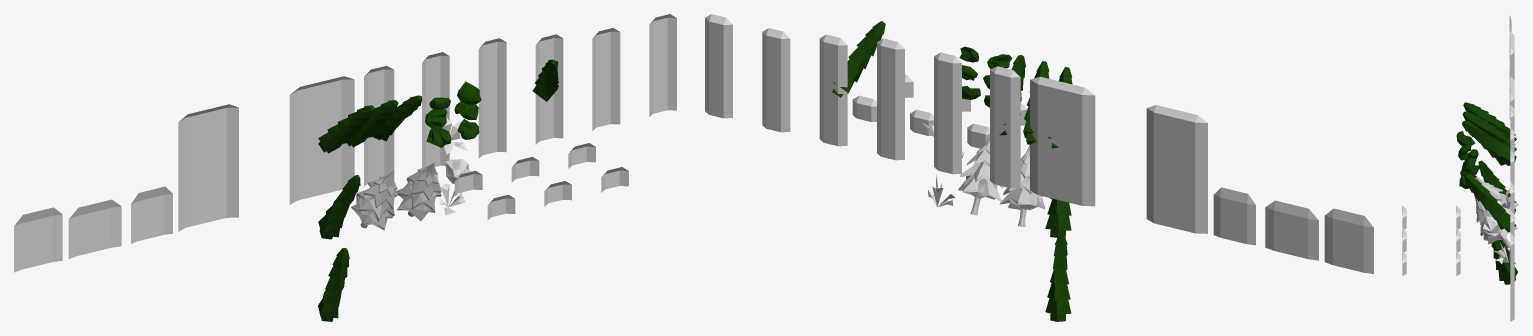
File: TreesNCamera.fbx
3 renders of one model, left to right at view 1: azimuth 30°, elevation 25°; view 2: azimuth 150°, elevation 25°; view 3: azimuth 270°, elevation 25°, orthographic. The views are drawn at different scales.
Visible parts, largest first — view 1: Plane.013, Plane.012, Plane.001, Plane.003, Plane.004, Plane.016, Plane.014, Plane.005, Plane.002, Plane, Plane.015, Cylinder.002 (+13 smaller); view 2: Plane.012, Plane.013, Plane.005, Plane.001, Plane, Plane.002, Plane.003, Plane.004, Plane.016, Plane.014, Plane.015, Cube.003 (+7 smaller); view 3: Cube.001, Cube.005, Cube.003, Cube.004, Cube, Cylinder.000, Plane.004, Cube.002, Cylinder.002, Cylinder.001, Plane.013, Cube.007 (+20 smaller).
Part boxes in pixels (<box>): Plane.013: <box>178,104,238,231</box>; Plane.012: <box>289,76,354,204</box>; Plane.001: <box>478,38,506,158</box>; Plane.003: <box>592,28,620,130</box>; Plane.004: <box>649,14,676,116</box>; Plane.016: <box>14,207,62,272</box>; Plane.014: <box>68,199,121,258</box>; Plane.005: <box>364,65,394,186</box>; Plane.002: <box>535,34,563,144</box>; Plane: <box>422,52,449,167</box>; Plane.015: <box>131,186,172,243</box>; Cylinder.002: <box>351,170,397,229</box>; Plane.012: <box>1030,76,1095,206</box>; Plane.013: <box>1146,105,1207,233</box>; Plane.005: <box>990,66,1020,188</box>; Plane.001: <box>877,38,904,160</box>; Plane: <box>934,52,961,174</box>; Plane.002: <box>819,34,847,146</box>; Plane.003: <box>762,28,790,132</box>; Plane.004: <box>705,14,732,118</box>; Plane.016: <box>1324,208,1373,273</box>; Plane.014: <box>1265,200,1318,260</box>; Plane.015: <box>1213,187,1255,245</box>; Cube.003: <box>1045,238,1071,321</box>; Cube.001: <box>1464,174,1516,232</box>; Cube.005: <box>1462,120,1516,165</box>; Cube.003: <box>1491,240,1517,284</box>; Cube.004: <box>1462,111,1516,151</box>; Cube: <box>1463,102,1516,141</box>; Cylinder.000: <box>1474,195,1517,248</box>; Plane.004: <box>1510,233,1514,321</box>; Cube.002: <box>1478,160,1516,214</box>; Cylinder.002: <box>1476,176,1518,214</box>; Cylinder.001: <box>1481,216,1502,237</box>; Plane.013: <box>1510,31,1514,79</box>; Cube.007: <box>1492,243,1510,263</box>.
Size of the model in its own units: 1167 by 403 by 216.
